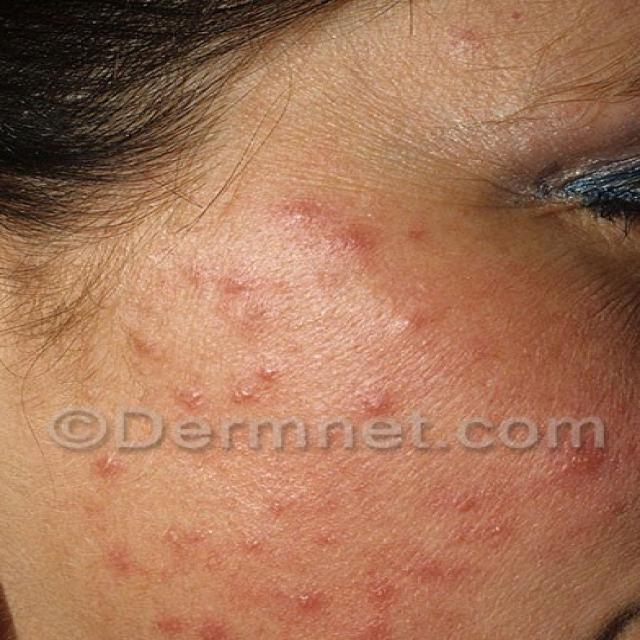Acne: (129, 166, 570, 640)
